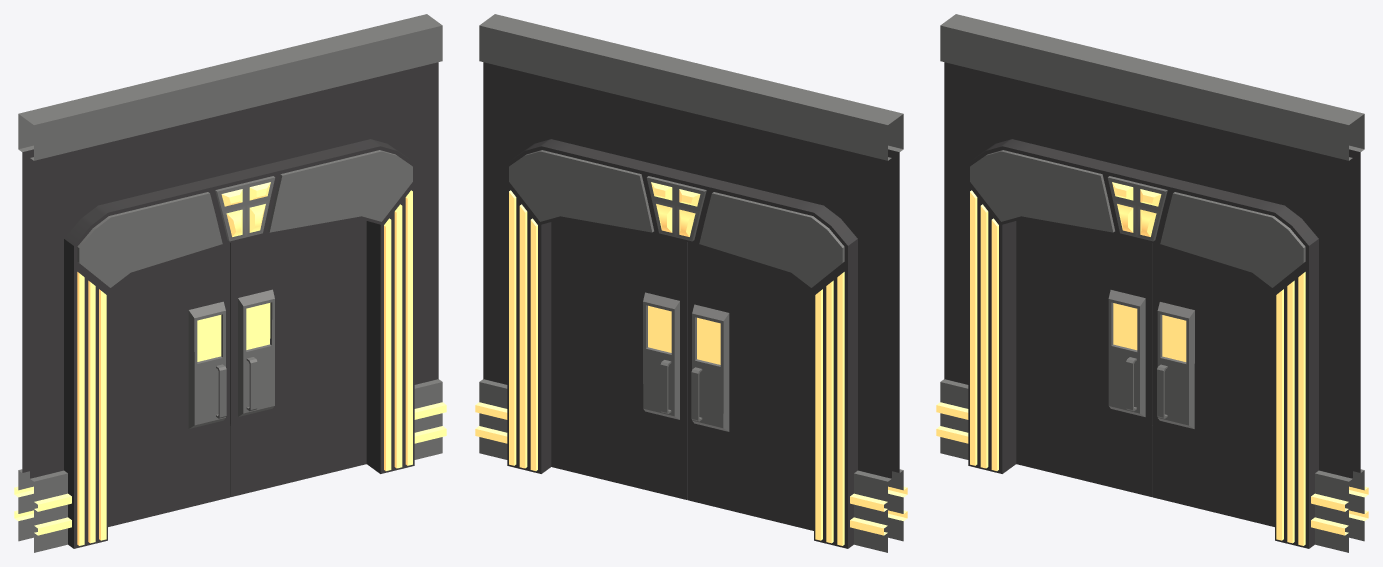
File: doubleDoor.fbx
3 views of the same model, side by side, from view 1: azimuth 30°, elevation 25°; view 2: azimuth 150°, elevation 25°; view 3: azimuth 330°, elevation 25° (orthographic).
Visible parts, largest first — view 1: Wall.DoubleDoor.Frame, Wall.DoubleDoor.Left.001, Wall.DoubleDoor.Left; view 2: Wall.DoubleDoor.Frame, Wall.DoubleDoor.Left.001, Wall.DoubleDoor.Left; view 3: Wall.DoubleDoor.Frame, Wall.DoubleDoor.Left, Wall.DoubleDoor.Left.001.
Part boxes in pixels (box(x1,y1,x2,y2)): Wall.DoubleDoor.Frame: box(14, 14, 446, 552); Wall.DoubleDoor.Left.001: box(230, 218, 366, 496); Wall.DoubleDoor.Left: box(108, 243, 230, 526); Wall.DoubleDoor.Frame: box(475, 14, 907, 552); Wall.DoubleDoor.Left.001: box(551, 218, 687, 499); Wall.DoubleDoor.Left: box(687, 242, 813, 530); Wall.DoubleDoor.Frame: box(936, 14, 1368, 552); Wall.DoubleDoor.Left: box(1016, 218, 1152, 497); Wall.DoubleDoor.Left.001: box(1153, 243, 1274, 526).
Size of the model in its own units: 300 by 300 by 45.
